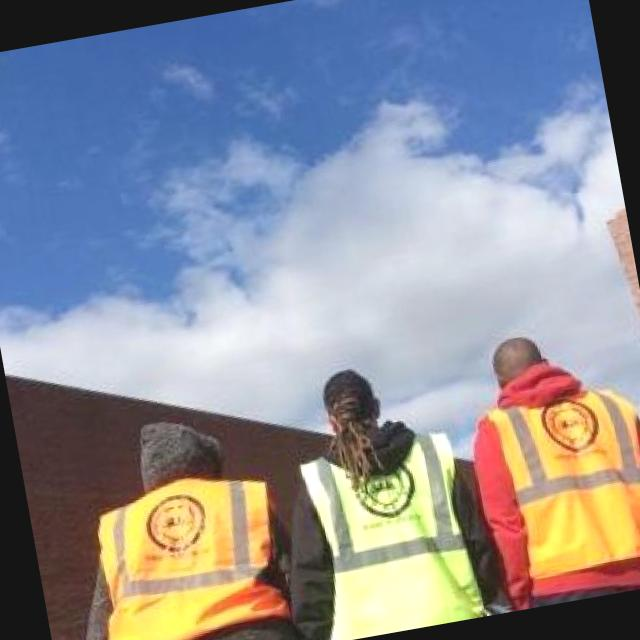vest: (63, 433, 290, 640), (305, 429, 491, 640), (490, 364, 640, 600)
